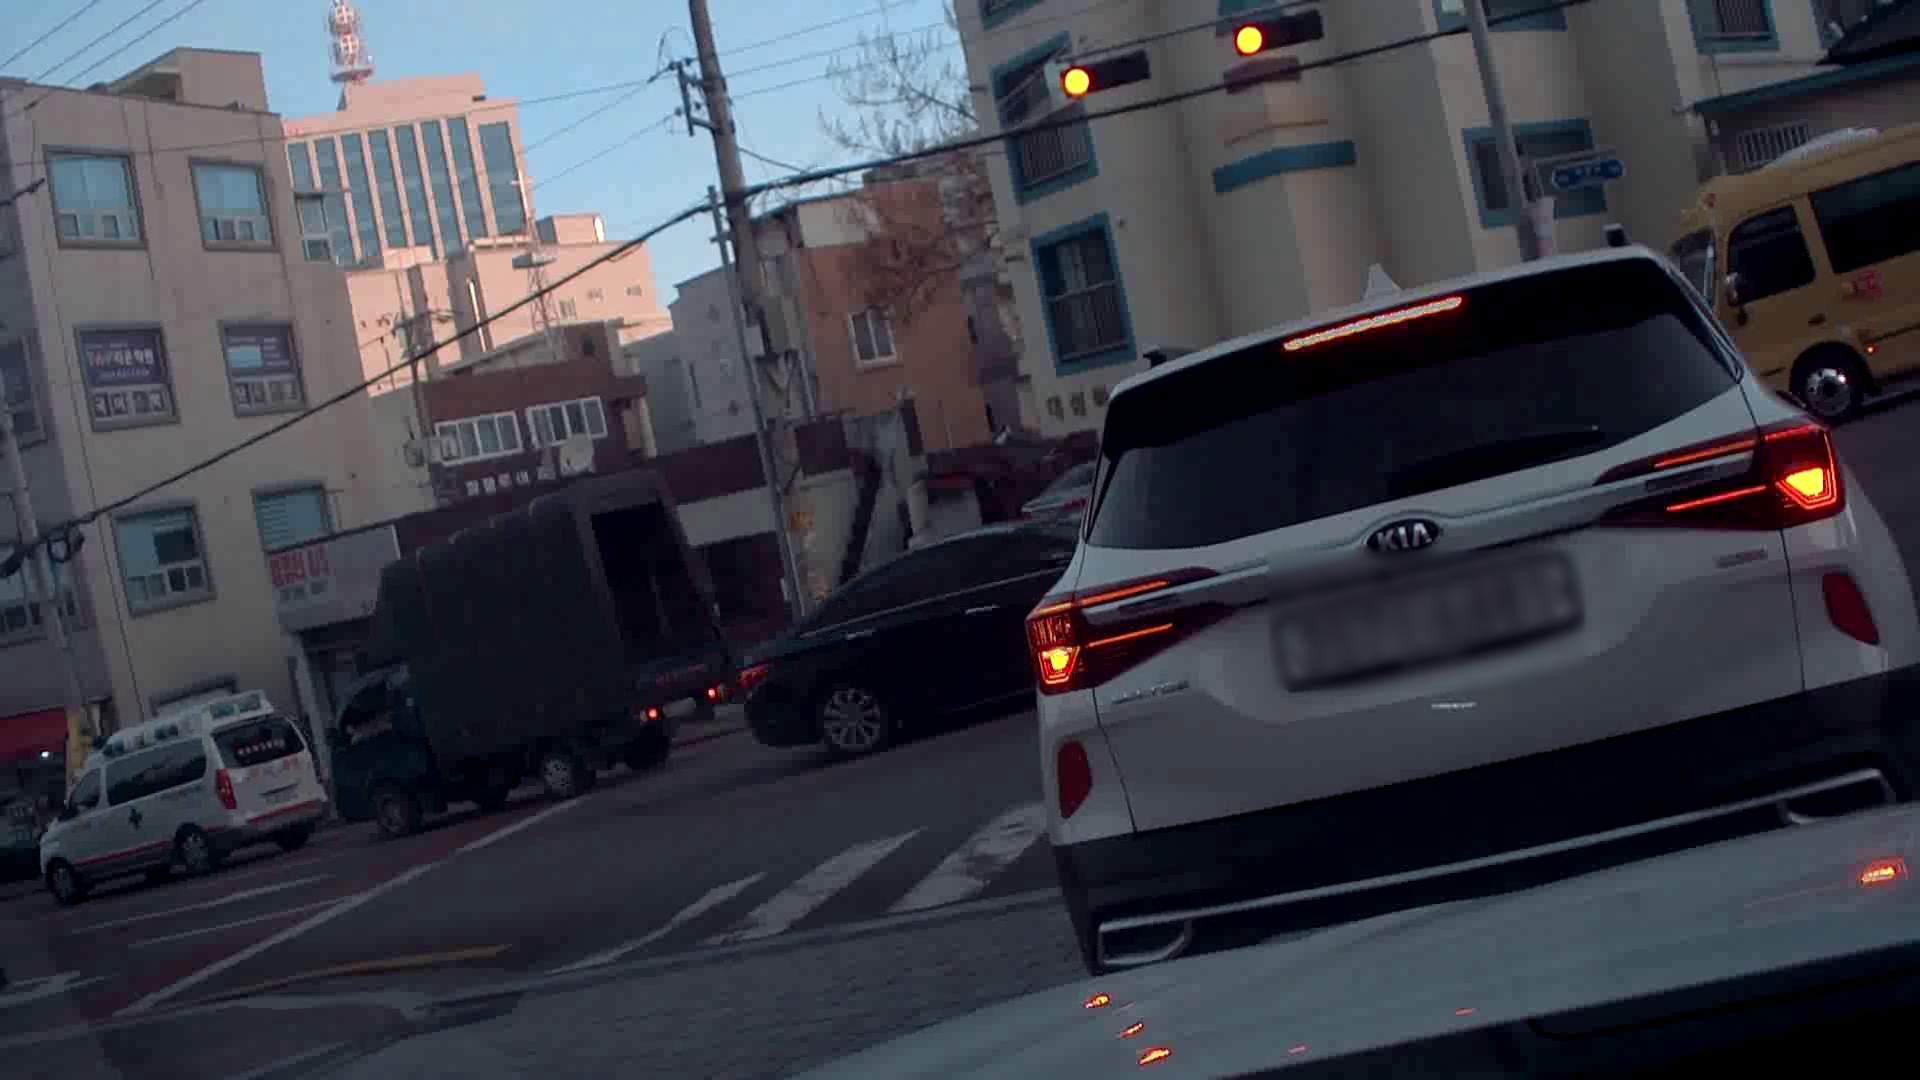trafficLight: (1062, 47, 1156, 105), (1230, 7, 1327, 61)
